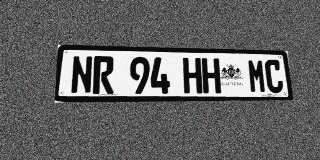4: (150, 57, 170, 94)
9: (130, 57, 150, 94)
C: (264, 59, 284, 93)
H: (201, 58, 221, 93), (183, 58, 202, 93)
M: (247, 59, 267, 93)
N: (70, 55, 93, 94)
R: (93, 56, 114, 94)
